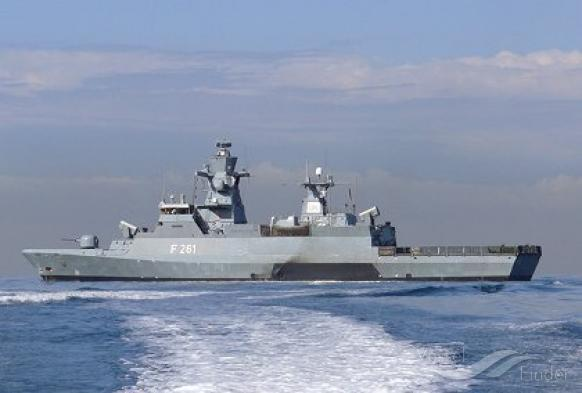OCR: (165, 242, 200, 258)
